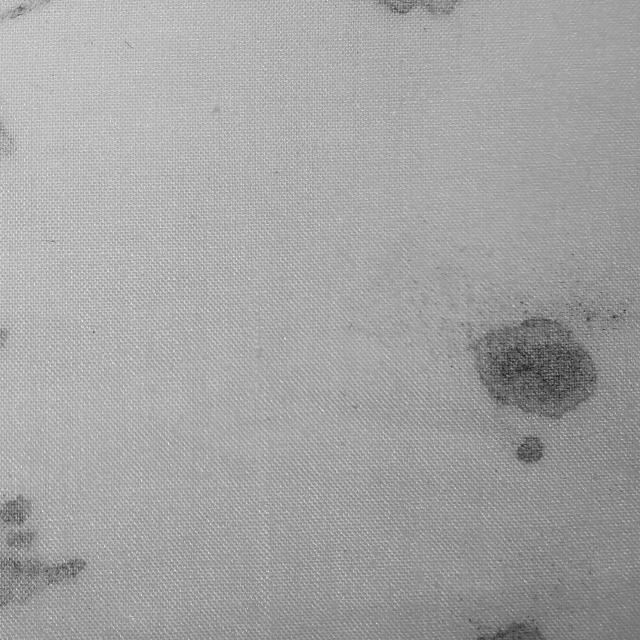Stain: (474, 318, 597, 418), (0, 494, 85, 609), (472, 621, 551, 639), (378, 0, 461, 13), (0, 0, 49, 21), (517, 436, 545, 463)
